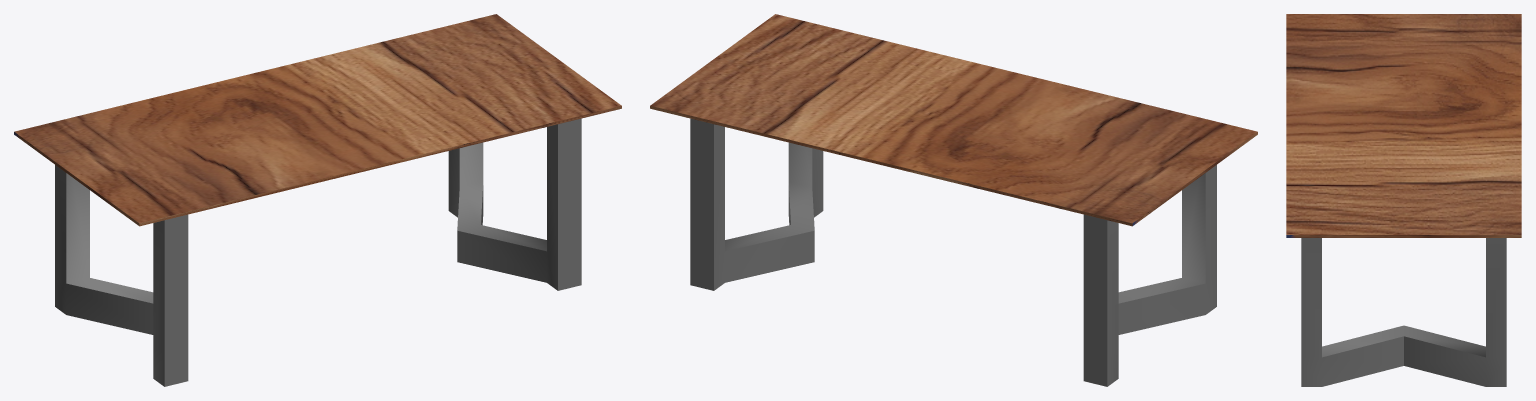
Rendered from KitchenTable.fbx.
The picture shows the model from 3 angles, left to right: view 1: azimuth 30°, elevation 25°; view 2: azimuth 150°, elevation 25°; view 3: azimuth 270°, elevation 25°; orthographic projection. The views are drawn at different scales.
Visible parts, largest first — view 1: Cube.046; view 2: Cube.046; view 3: Cube.046.
Boxes of the visible parts, x1,y1,x2,y2 form: Cube.046: (14, 14, 621, 386); Cube.046: (650, 14, 1257, 386); Cube.046: (1286, 14, 1521, 386).
Size of the model in its own units: 200 by 70.3 by 90.
2 materials, 1 textured.
